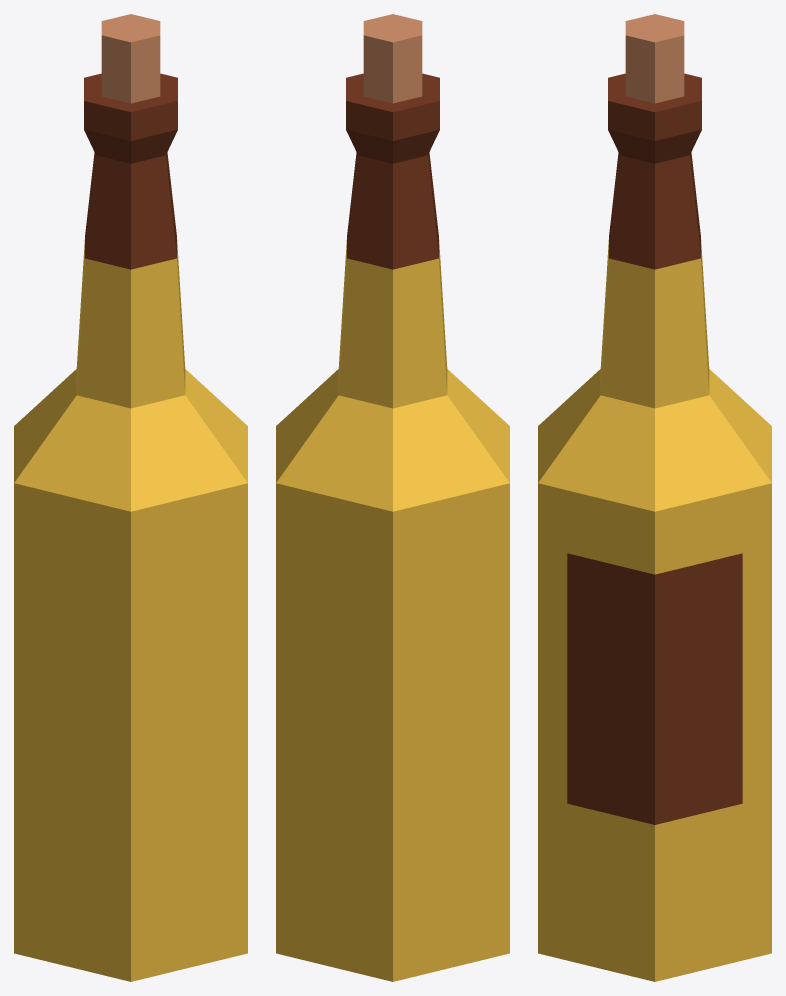
The model's file is carbonatedHoney.FBX.
3 renders of one model, left to right at view 1: azimuth 30°, elevation 25°; view 2: azimuth 150°, elevation 25°; view 3: azimuth 270°, elevation 25°, orthographic.
Parts seen in each view (by area): view 1: wineRed; view 2: wineRed; view 3: wineRed.
Part boxes in pixels (left/top/right/bottom): wineRed: left=14, top=14, right=247, bottom=981; wineRed: left=276, top=14, right=509, bottom=981; wineRed: left=538, top=14, right=771, bottom=981.
Bounding box in the file's own units: 19.08 × 69.89 × 16.52.
